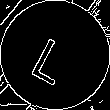L_NE: (29, 25, 81, 85)
